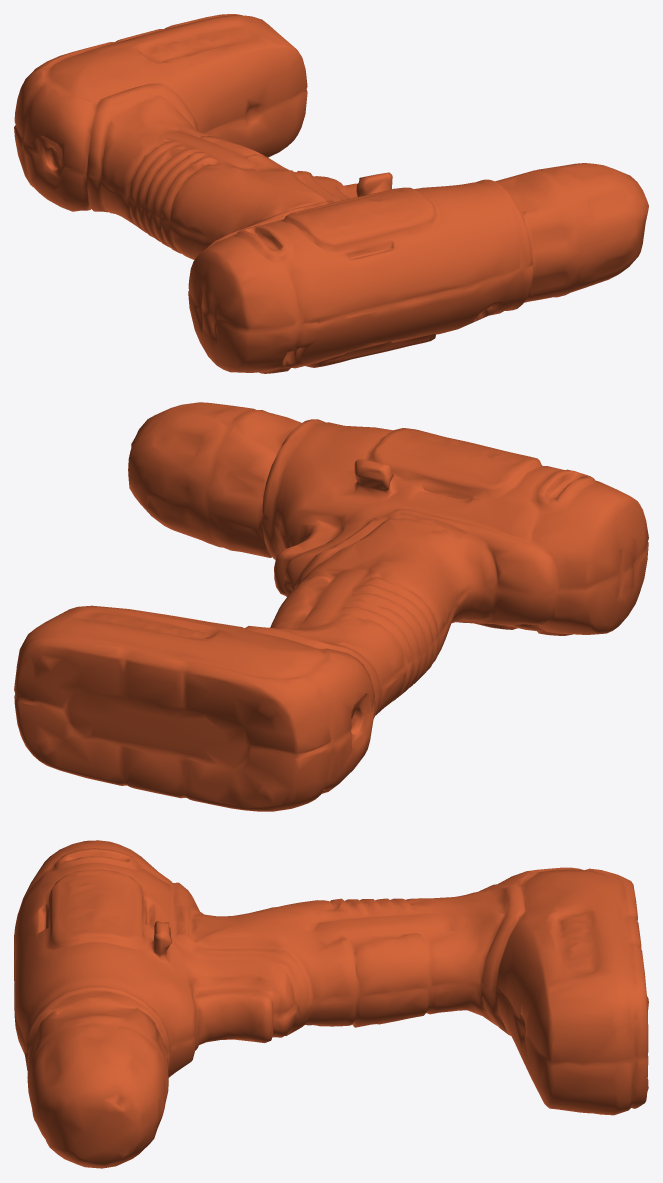
3 views of the same model, one above another, from view 1: azimuth 30°, elevation 25°; view 2: azimuth 150°, elevation 25°; view 3: azimuth 270°, elevation 25° (orthographic). The views are drawn at different scales.
Bounding box in the file's own units: 0.1634 × 0.0513 × 0.1887.
